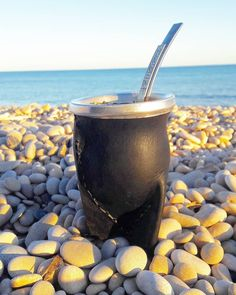calabaza: (68, 86, 175, 246)
mate: (70, 88, 177, 248)
